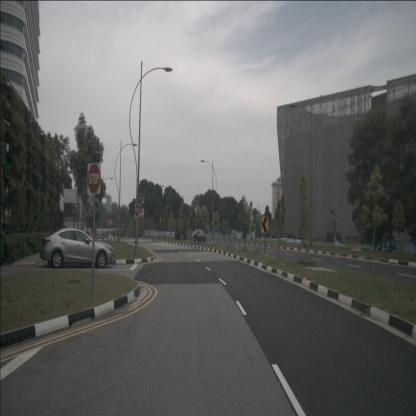vehicle-car: (39, 228, 114, 268), (193, 229, 206, 243)
